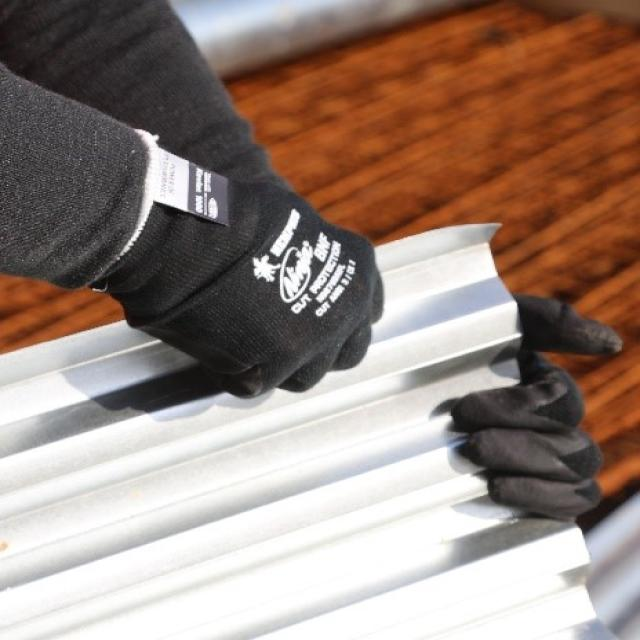gloves: (88, 127, 385, 402), (427, 290, 630, 524)
